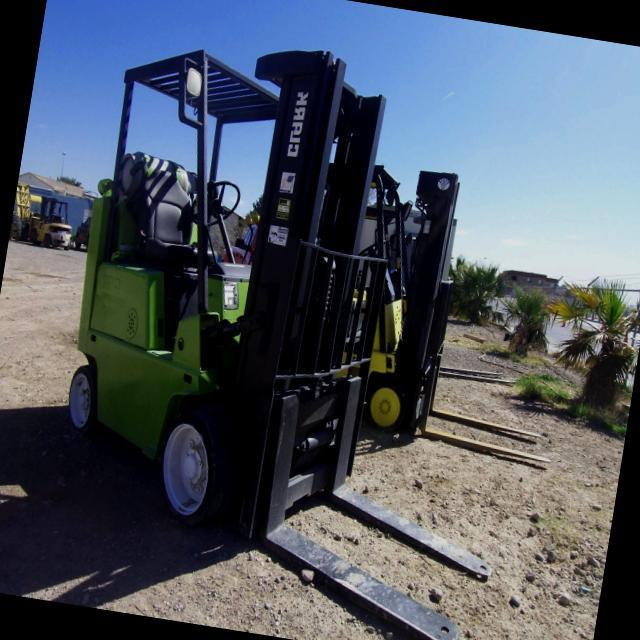forklift: (32, 0, 429, 628)
